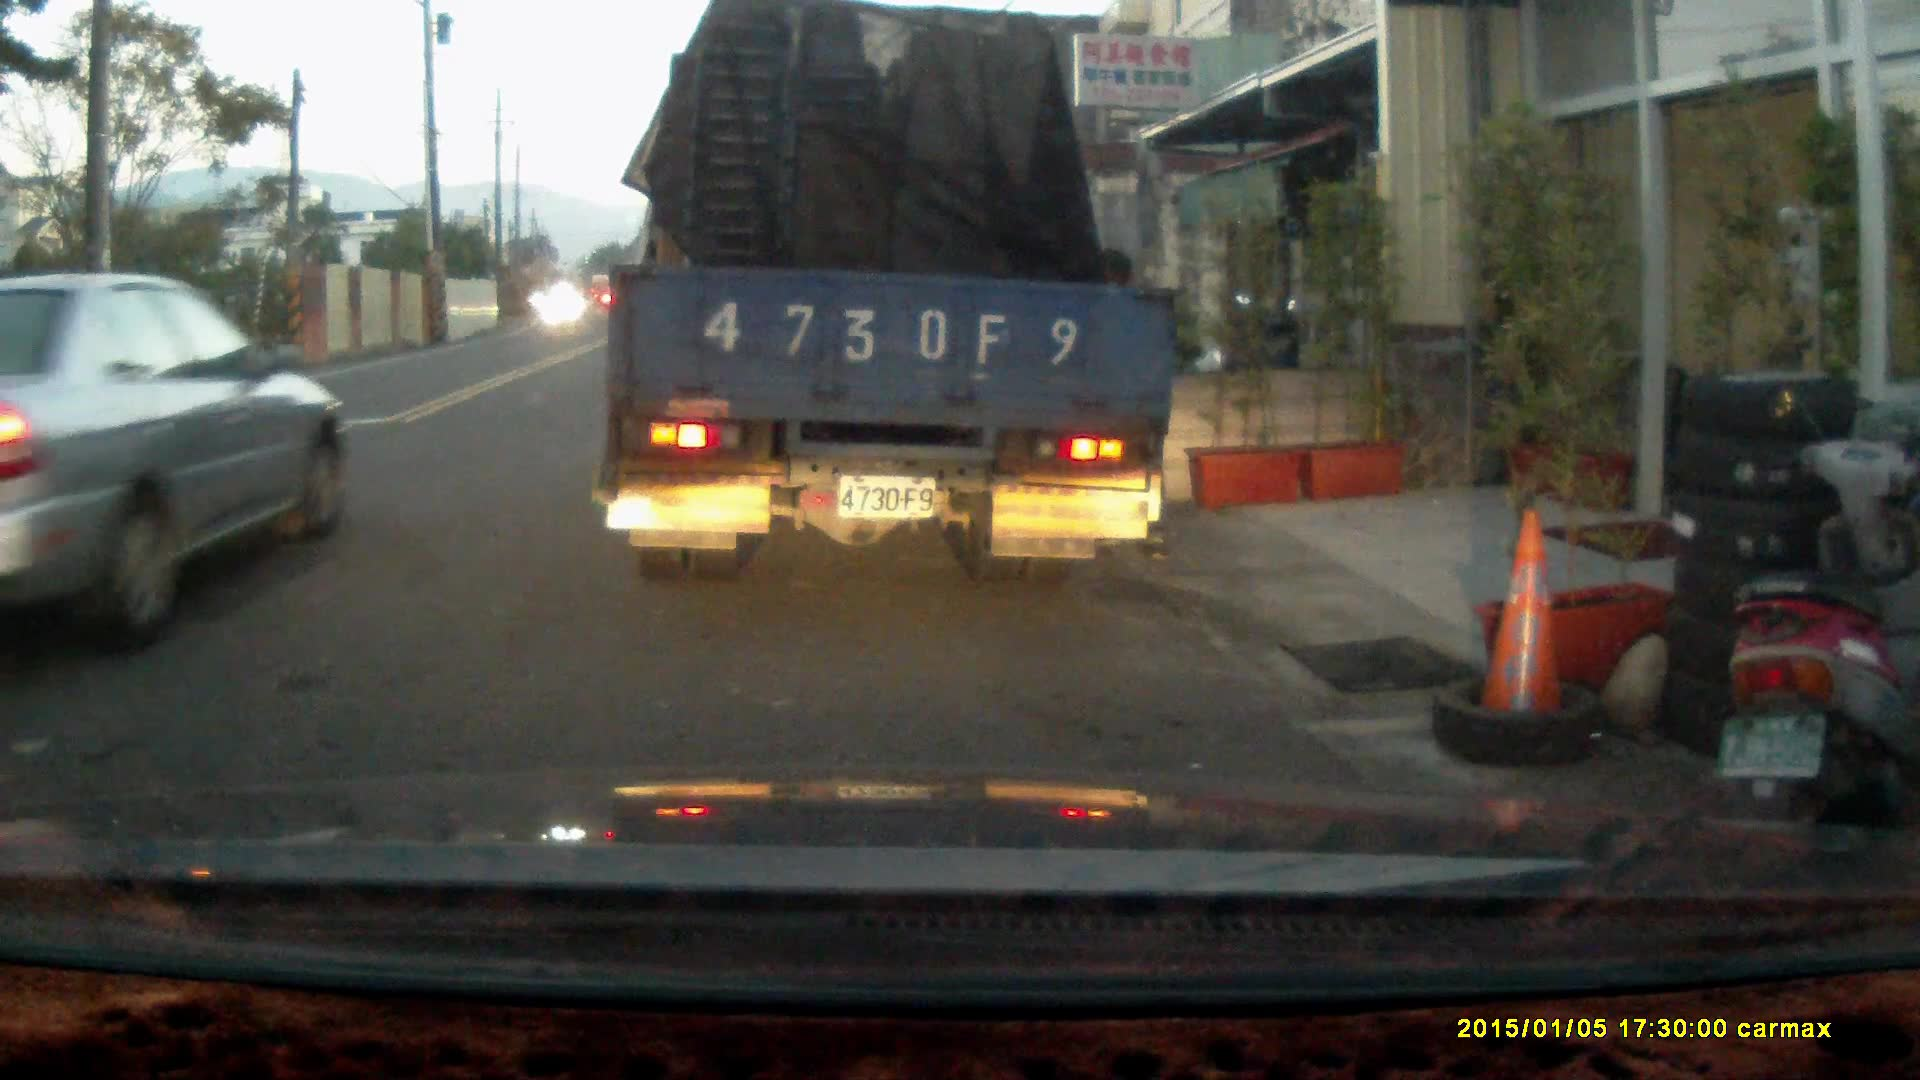vehicle: (605, 22, 1188, 572), (1, 270, 353, 665)
